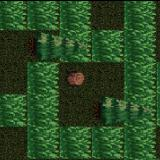Obstacle: (91, 93, 124, 126), (27, 29, 59, 61), (59, 62, 91, 92)
Slow: (124, 0, 156, 160), (28, 126, 124, 158), (0, 0, 91, 29), (60, 29, 124, 61), (28, 61, 58, 126), (0, 94, 28, 125)
